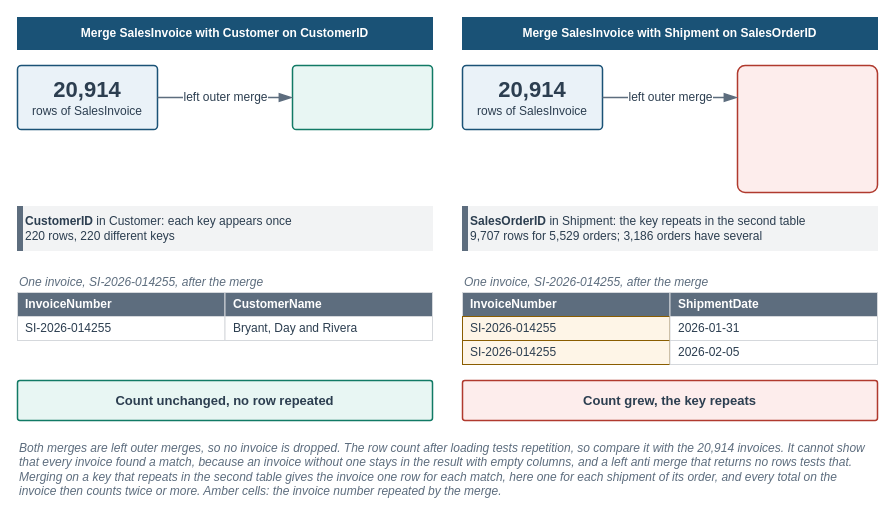
This 896x526 diagram has some shape labels left out. Each missing label, with the centre of its shape:
20,914 rows after the merge: the point at 362,97
41,408 rows after the merge +20,494 rows: the point at 807,128
